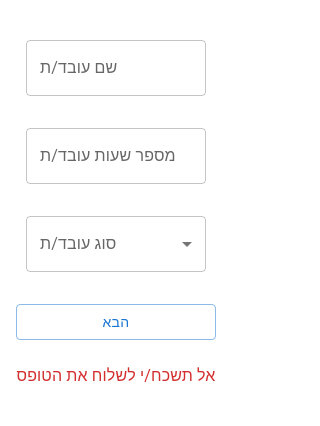
shows error when form is submitted with empty fields
Click the button "הבא".
click(116, 322)  # box left=16, top=304, right=216, bottom=340
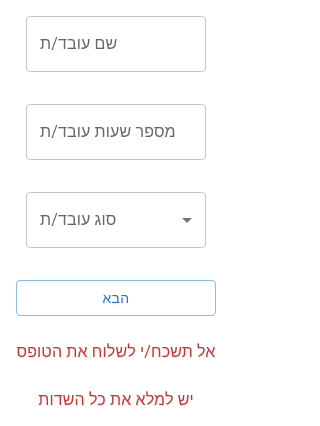
Now the text "יש למלא את כל השדות" is shown, box left=38, top=390, right=194, bottom=409
